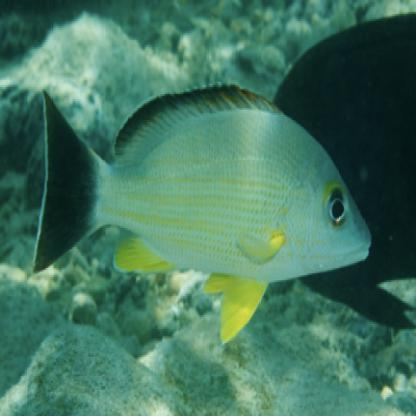Bio: (29, 75, 373, 355)
